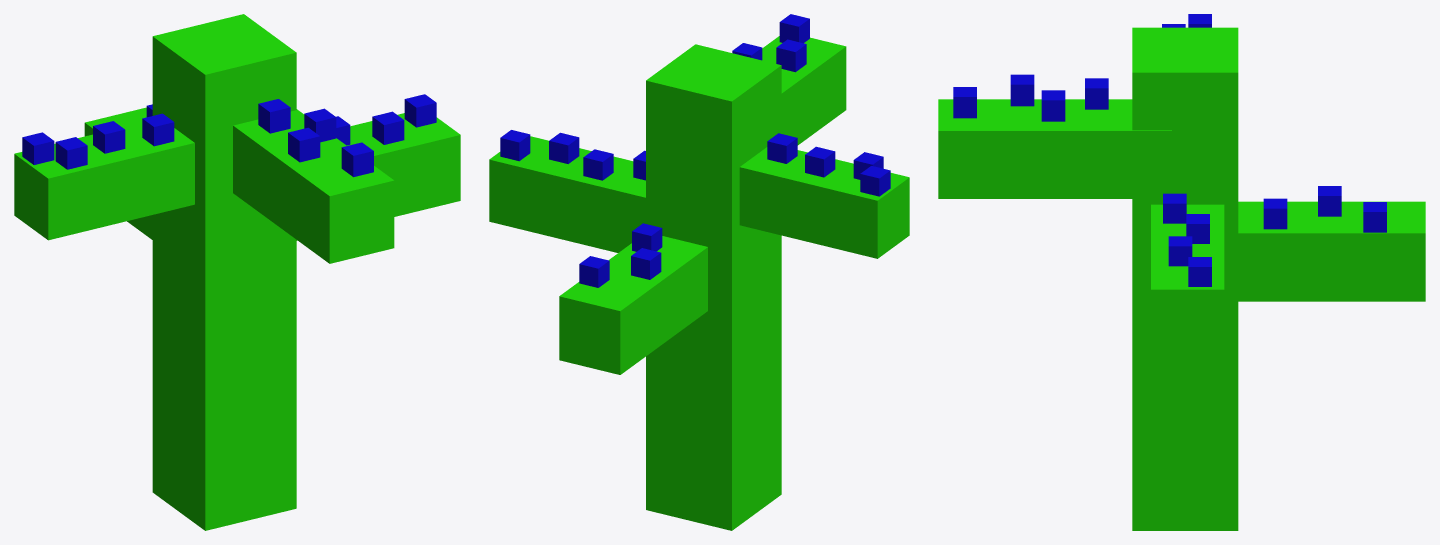
File: bush1.fbx
3 renders of one model, left to right at view 1: azimuth 30°, elevation 25°; view 2: azimuth 150°, elevation 25°; view 3: azimuth 270°, elevation 25°, orthographic. The views are drawn at different scales.
Parts seen in each view (by area): view 1: Cube.003; view 2: Cube.003; view 3: Cube.003.
Boxes of the visible parts, bbox=[...] form: Cube.003: bbox=[14, 14, 460, 530]; Cube.003: bbox=[489, 14, 909, 530]; Cube.003: bbox=[938, 14, 1425, 530].
Bounding box in the file's own units: 143 × 152 × 146.
